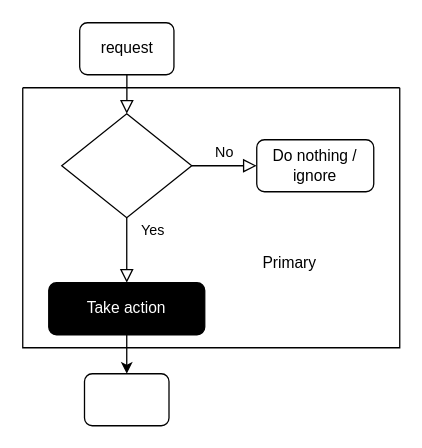
Some shapes in this 422 by 448 pixel diagram are drawn without their labels. Here are the shapes that lost their labels. From the top down, the box of each, then its label:
(60, 112, 192, 218): Is the rqst accepted
(83, 372, 169, 426): response
